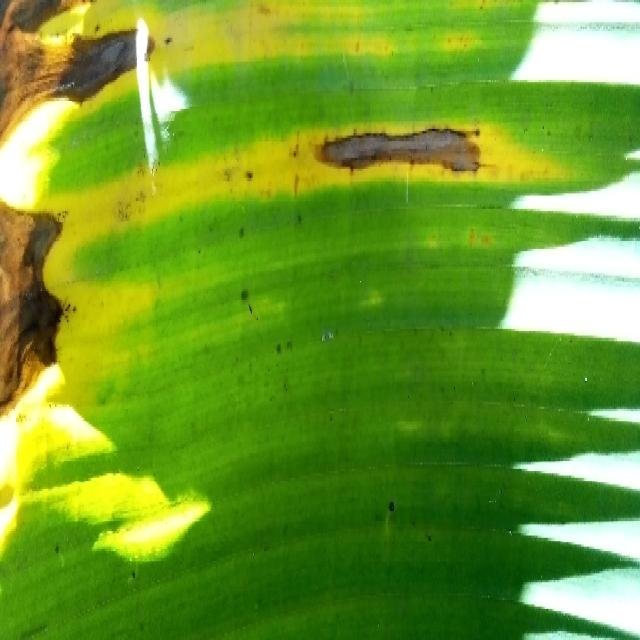Cordana: (0, 0, 562, 258), (0, 165, 238, 608)
